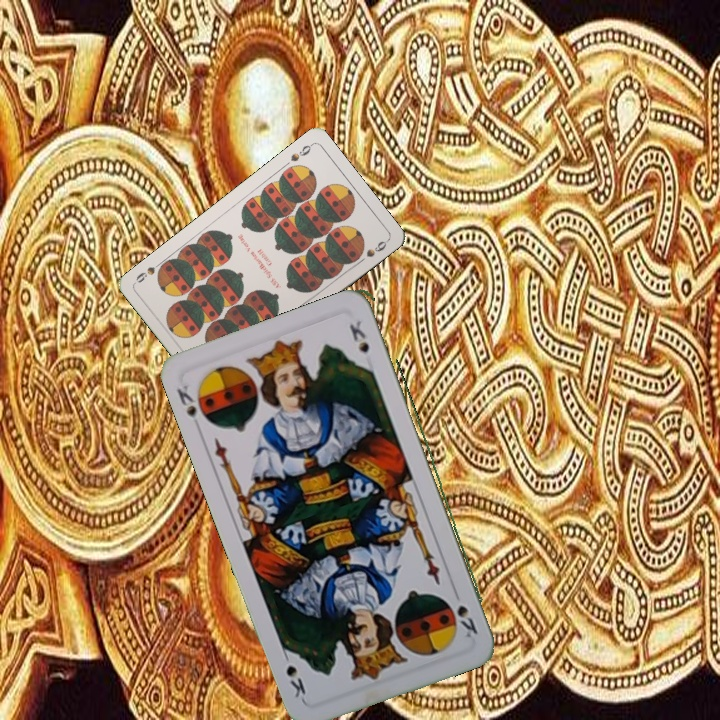S9: (286, 139, 315, 164)
SK: (173, 381, 202, 434), (453, 601, 480, 641)
